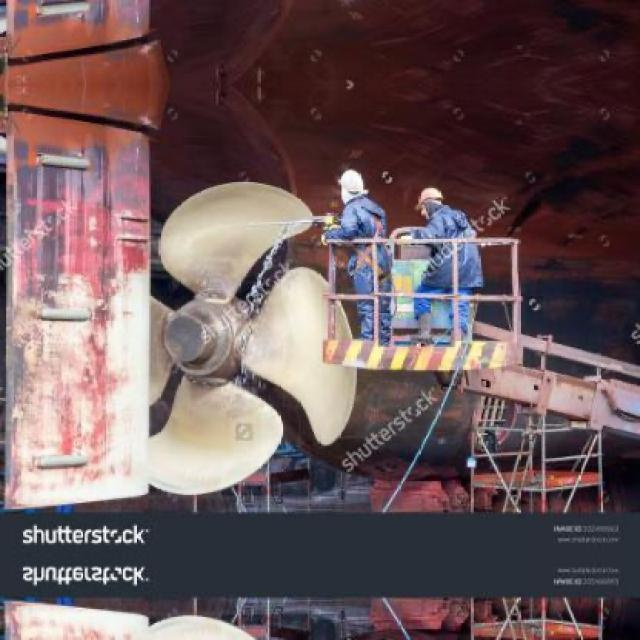Arnes_seguridad: (348, 207, 387, 277)
